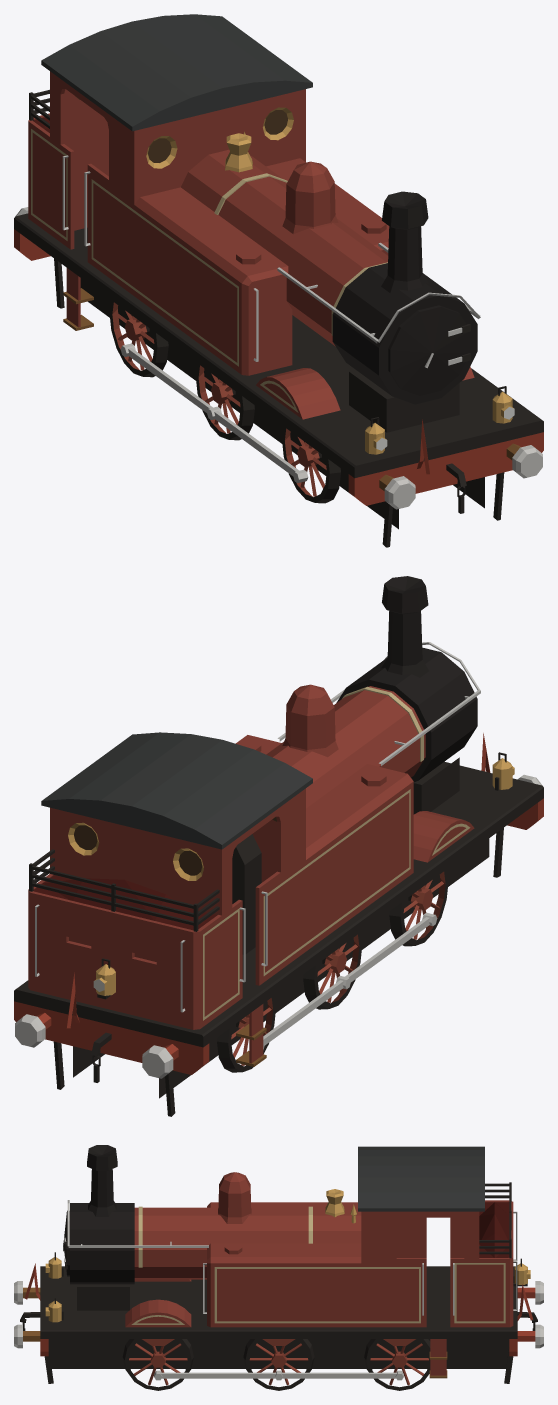
File: tank-steam-locomotive-314bb1.glb
3 views of the same model, one above another, from view 1: azimuth 30°, elevation 25°; view 2: azimuth 150°, elevation 25°; view 3: azimuth 270°, elevation 25° (orthographic). The views are drawn at different scales.
Visible parts, largest first — view 1: body, coupling-rods, wheel-1-set, wheel-3-set, wheel-2-set, lamp-fr-mesh, lamp-fl-mesh; view 2: body, coupling-rods, wheel-1-set, wheel-2-set, wheel-3-set, lamp-rear-mesh; view 3: body, coupling-rods, wheel-1-set, wheel-2-set, wheel-3-set, lamp-fr-mesh, lamp-fl-mesh.
Boxes of the visible parts, x1,y1,x2,y2 form: body: [14, 14, 543, 547]; coupling-rods: [120, 343, 308, 483]; wheel-1-set: [282, 426, 340, 503]; wheel-3-set: [109, 300, 168, 377]; wheel-2-set: [195, 363, 254, 440]; lamp-fr-mesh: [492, 386, 514, 423]; lamp-fl-mesh: [365, 417, 387, 454]; body: [14, 576, 543, 1116]; coupling-rods: [263, 912, 437, 1049]; wheel-1-set: [389, 869, 448, 946]; wheel-2-set: [303, 932, 362, 1009]; wheel-3-set: [217, 995, 275, 1072]; lamp-rear-mesh: [93, 958, 115, 995]; body: [14, 1145, 543, 1383]; coupling-rods: [154, 1370, 403, 1380]; wheel-1-set: [122, 1339, 193, 1390]; wheel-2-set: [243, 1339, 314, 1390]; wheel-3-set: [364, 1339, 430, 1390]; lamp-fr-mesh: [45, 1295, 61, 1322]; lamp-fl-mesh: [45, 1252, 61, 1278].
Size of the model in its own units: 2.62 by 4.16 by 9.
